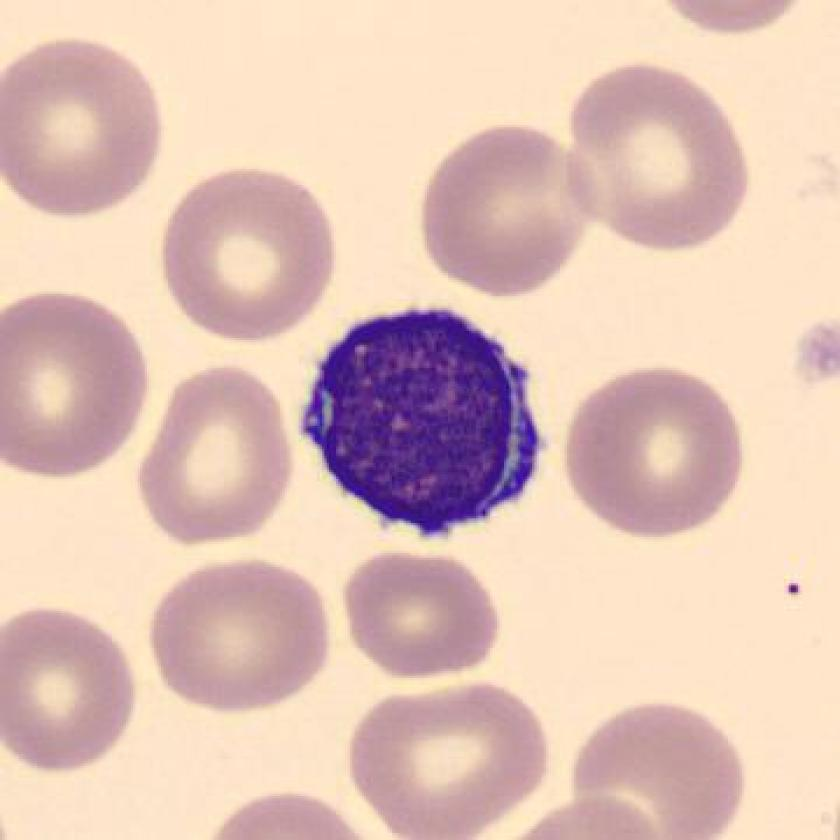lymphocyte: (293, 297, 561, 547)
